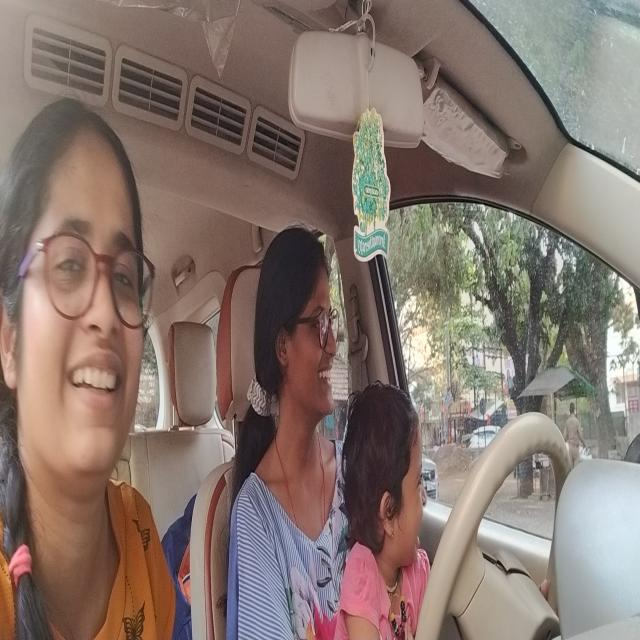child: (337, 370, 429, 569)
person: (0, 97, 154, 507), (250, 217, 343, 430)
